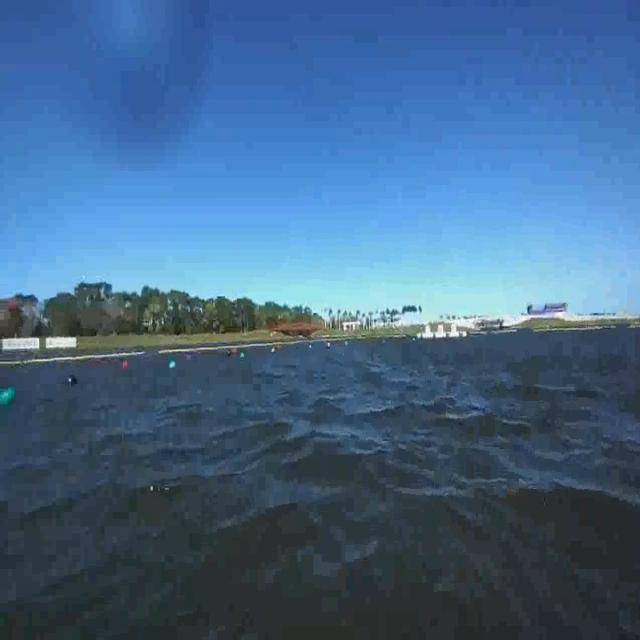black-buoy: (66, 372, 80, 388)
green-buoy: (1, 386, 16, 402)
